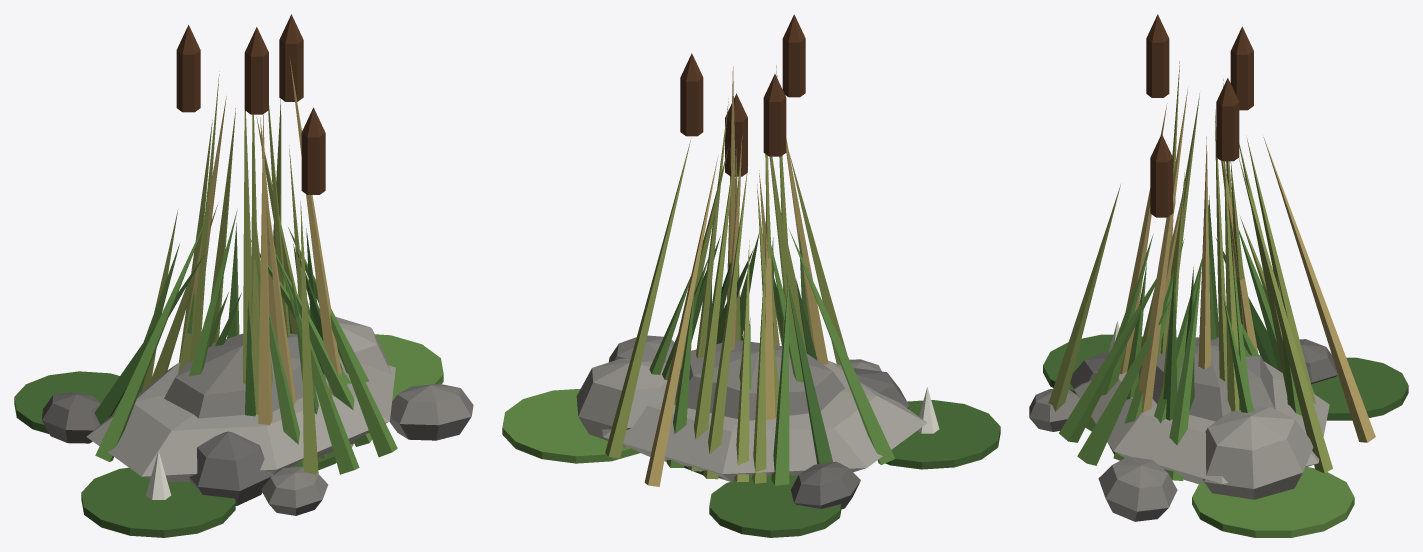
Rendered from Ufer.fbx.
3 renders of one model, left to right at view 1: azimuth 30°, elevation 25°; view 2: azimuth 150°, elevation 25°; view 3: azimuth 270°, elevation 25°, orthographic. The views are drawn at different scales.
Parts seen in each view (by area): view 1: Ufersteine_B, Schilf_A, Schilf_B, Schilf_C, Ufersteine_A, Seerose_B, Seerose_A; view 2: Schilf_C, Schilf_A, Ufersteine_B, Seerose_A, Schilf_B, Ufersteine_A, Seerose_B; view 3: Schilf_C, Schilf_A, Schilf_B, Ufersteine_B, Ufersteine_A, Seerose_A, Seerose_B.
Part boxes in pixels (bbox=[...]): Ufersteine_B: bbox=[42, 359, 473, 515]; Schilf_A: bbox=[176, 14, 353, 447]; Schilf_B: bbox=[94, 209, 397, 474]; Schilf_C: bbox=[142, 96, 327, 475]; Ufersteine_A: bbox=[164, 317, 391, 505]; Seerose_B: bbox=[81, 451, 235, 537]; Seerose_A: bbox=[14, 334, 443, 470]; Schilf_C: bbox=[605, 93, 847, 486]; Schilf_A: bbox=[680, 14, 828, 471]; Ufersteine_B: bbox=[602, 335, 926, 509]; Seerose_A: bbox=[502, 388, 841, 537]; Schilf_B: bbox=[662, 222, 895, 485]; Ufersteine_A: bbox=[576, 340, 909, 446]; Seerose_B: bbox=[885, 387, 1000, 469]; Schilf_C: bbox=[1048, 134, 1375, 473]; Schilf_A: bbox=[1120, 14, 1286, 412]; Schilf_B: bbox=[1059, 195, 1282, 480]; Ufersteine_B: bbox=[1029, 339, 1337, 521]; Ufersteine_A: bbox=[1070, 337, 1313, 499]; Seerose_A: bbox=[1107, 357, 1408, 537]; Seerose_B: bbox=[1043, 321, 1142, 396].
Bounding box in the file's own units: 0.6842 × 0.7089 × 0.5604.
